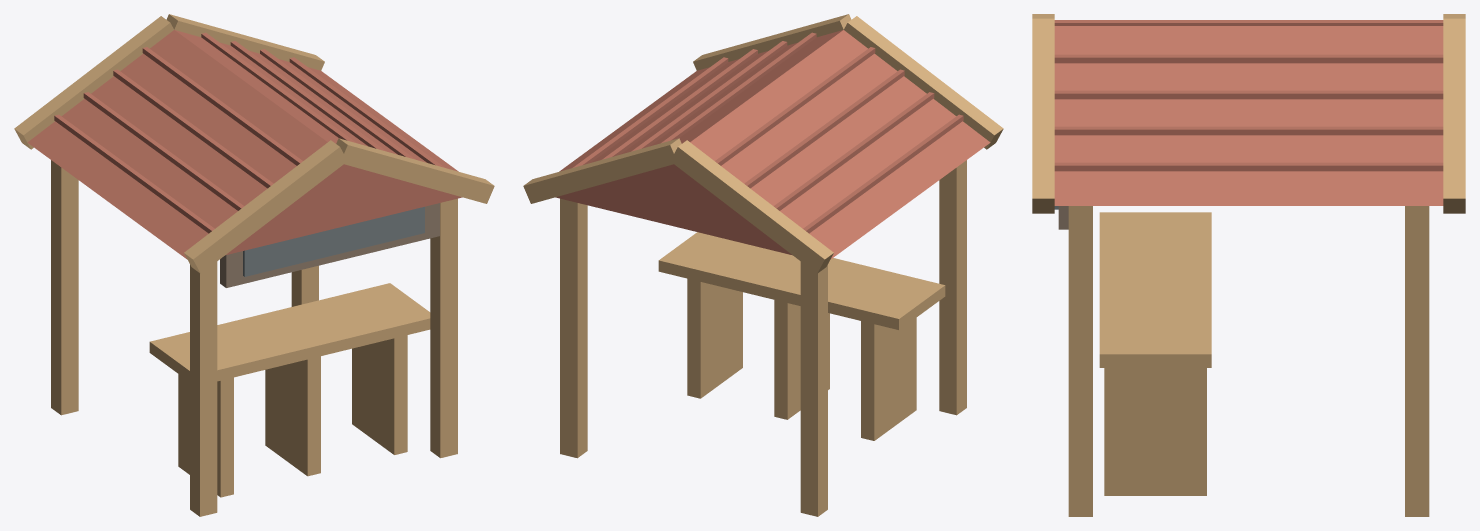
The model's file is harvest-hearth-roadside-produce-shelter__52.glb.
3 renders of one model, left to right at view 1: azimuth 30°, elevation 25°; view 2: azimuth 150°, elevation 25°; view 3: azimuth 270°, elevation 25°, orthographic. The views are drawn at different scales.
Visible parts, largest first — view 1: harvest-hearth-produce-shelter; view 2: harvest-hearth-produce-shelter; view 3: harvest-hearth-produce-shelter.
Boxes of the visible parts, x1,y1,x2,y2 form: harvest-hearth-produce-shelter: (14,14,494,516); harvest-hearth-produce-shelter: (523,14,1003,516); harvest-hearth-produce-shelter: (1032,14,1465,516).
Size of the model in its own units: 2.26 by 2.51 by 2.32.
